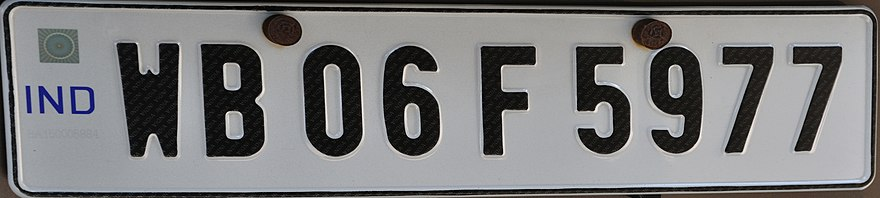numberplate: (7, 2, 878, 192)
